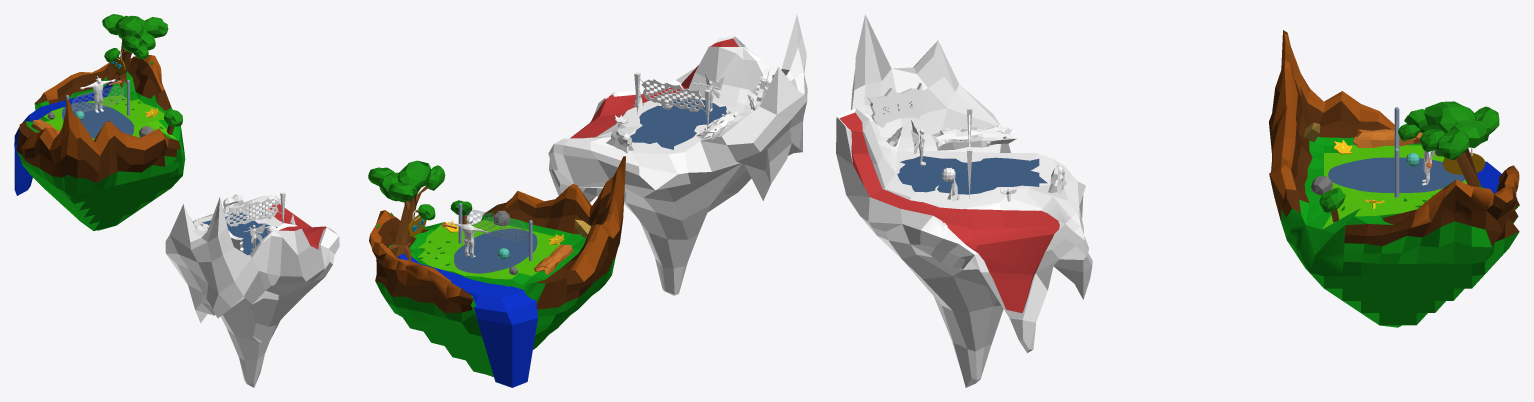
File: Orc.obj
3 renders of one model, left to right at view 1: azimuth 30°, elevation 25°; view 2: azimuth 150°, elevation 25°; view 3: azimuth 270°, elevation 25°, orthographic. The views are drawn at different scales.
Parts seen in each view (by area): view 1: Ground_1, Ground, Water, Field_1, Net, Net_1, Lava, Field, Leaf_6, Leaf_8, Orc, Stump_1; view 2: Ground, Ground_1, Water, Field, Field_1, Lava, Net, Net_1, Stump_1, Leaf_6, Bench, Bench_1 (+3 smaller); view 3: Ground_1, Ground, Lava, Field, Field_1, Scoreboard, Bench, Leaf_6, Bench_1, Leaf_8, Leaf_5.
Part boxes in pixels (x1,y1,x2,y2): Ground_1: [16, 55, 185, 230]; Ground: [165, 195, 339, 387]; Water: [14, 80, 117, 195]; Field_1: [62, 102, 134, 138]; Net: [224, 197, 281, 226]; Net_1: [69, 85, 126, 112]; Lava: [269, 204, 326, 249]; Field: [202, 211, 277, 255]; Leaf_6: [115, 15, 144, 39]; Leaf_8: [144, 17, 168, 38]; Orc: [80, 76, 115, 112]; Stump_1: [110, 38, 131, 88]; Ground: [548, 15, 807, 295]; Ground_1: [369, 156, 625, 377]; Water: [398, 253, 537, 387]; Field: [630, 98, 726, 149]; Field_1: [454, 228, 537, 273]; Lava: [570, 38, 738, 138]; Net: [638, 78, 705, 111]; Net_1: [462, 208, 528, 241]; Stump_1: [388, 186, 427, 260]; Leaf_6: [397, 160, 431, 191]; Bench: [696, 110, 744, 140]; Bench_1: [534, 244, 573, 275]; Ground_1: [1269, 30, 1519, 327]; Ground: [836, 14, 1092, 387]; Lava: [839, 112, 1059, 313]; Field: [897, 156, 1047, 194]; Field_1: [1328, 157, 1464, 192]; Scoreboard: [867, 83, 928, 127]; Bench: [931, 124, 1016, 150]; Leaf_6: [1424, 101, 1476, 132]; Bench_1: [1353, 129, 1422, 147]; Leaf_8: [1436, 128, 1469, 160]; Leaf_5: [1444, 119, 1489, 148].
Bounding box in the file's own units: 1279 × 1619 × 3075.
